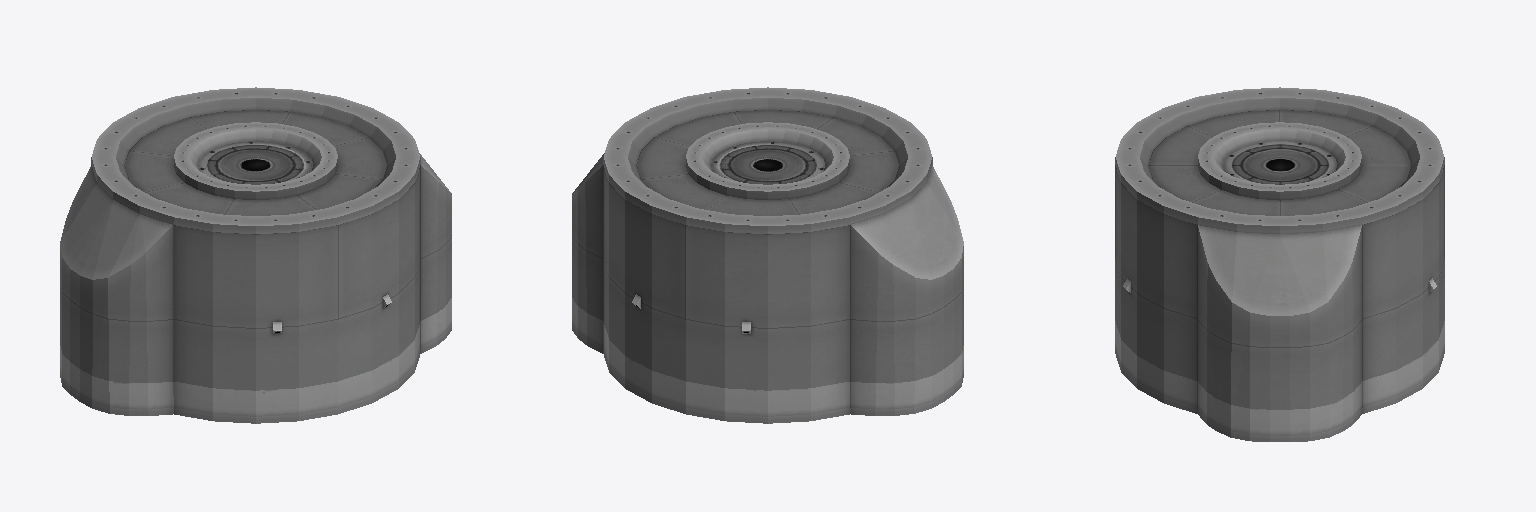
3 views of the same model, side by side, from view 1: azimuth 30°, elevation 25°; view 2: azimuth 150°, elevation 25°; view 3: azimuth 270°, elevation 25° (orthographic).
Parts seen in each view (by area): view 1: Prince_Engine_A; view 2: Prince_Engine_A; view 3: Prince_Engine_A.
Boxes of the visible parts, <box> form: Prince_Engine_A: <box>60,87,451,423</box>; Prince_Engine_A: <box>572,87,963,423</box>; Prince_Engine_A: <box>1115,87,1444,441</box>.
Size of the model in its own units: 2.38 by 1.25 by 1.88.
Materials: 1 (1 with a texture image).